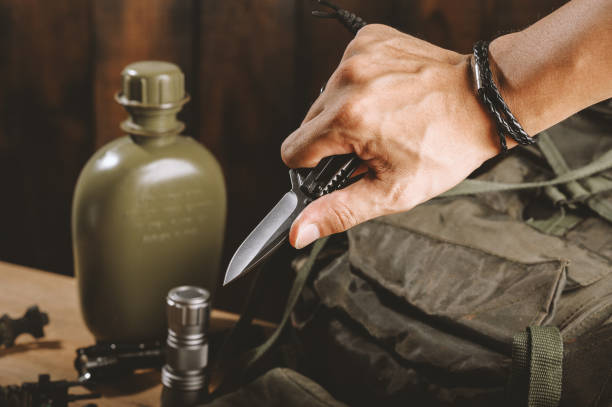knife: (220, 153, 359, 288)
